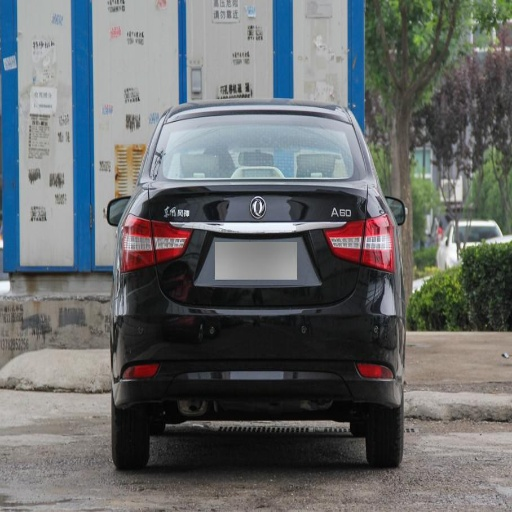back_bumper: (118, 266, 406, 416)
tailgate: (130, 173, 381, 312)
